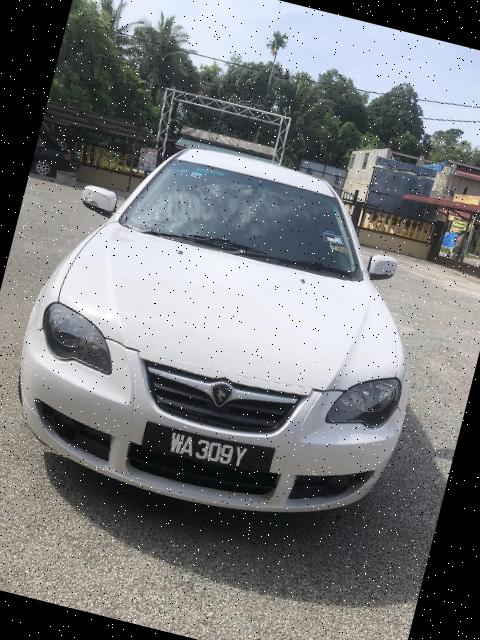License_Plate: (146, 422, 264, 480)
car: (1, 115, 462, 568)
